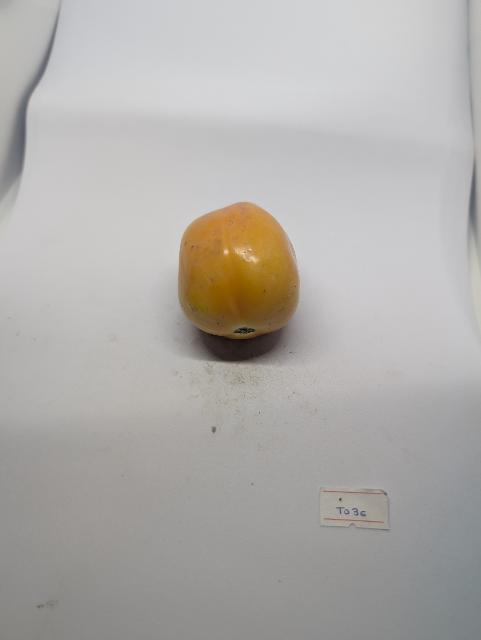turning: (158, 187, 314, 359)
